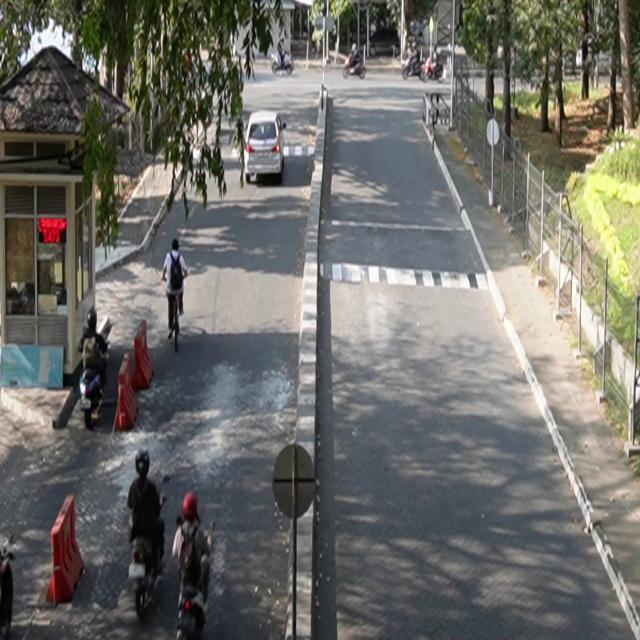car: (244, 111, 288, 185)
